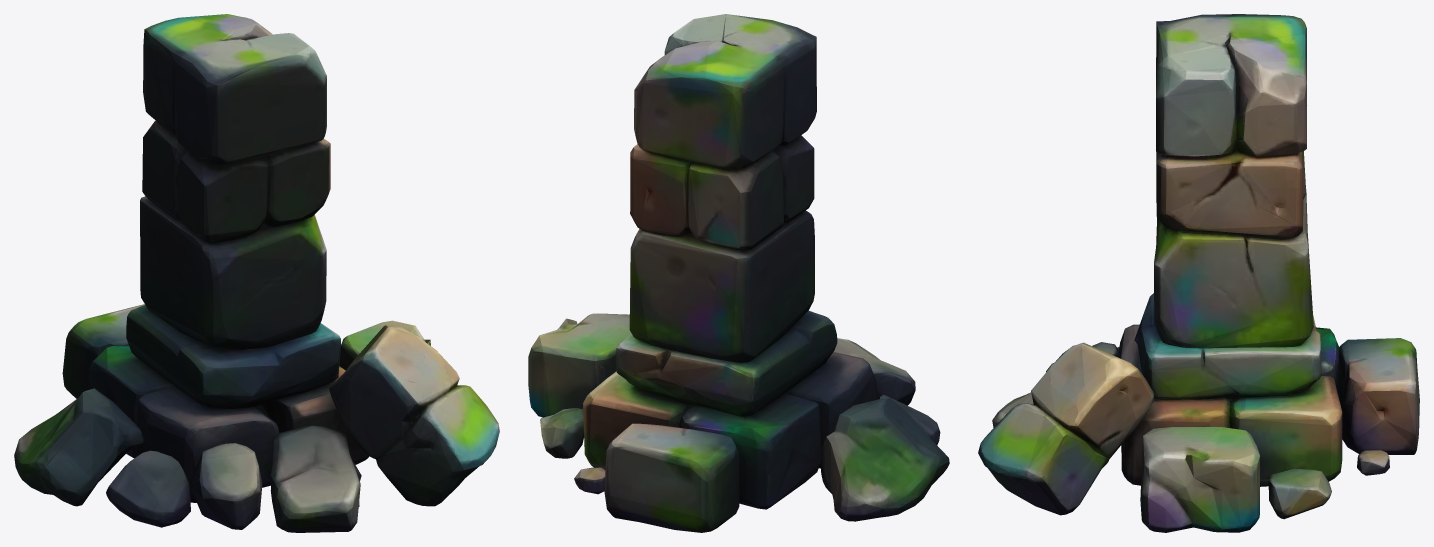
File: ruin.glb
3 renders of one model, left to right at view 1: azimuth 30°, elevation 25°; view 2: azimuth 150°, elevation 25°; view 3: azimuth 270°, elevation 25°, orthographic.
Visible parts, largest first — view 1: geometry_0; view 2: geometry_0; view 3: geometry_0.
Boxes of the visible parts, x1=… form: geometry_0: x1=14, y1=14, x2=499, y2=532; geometry_0: x1=528, y1=14, x2=949, y2=532; geometry_0: x1=978, y1=14, x2=1419, y2=532.
Bounding box in the file's own units: 0.9898 × 0.9969 × 0.9743.
1 material, 1 textured.
